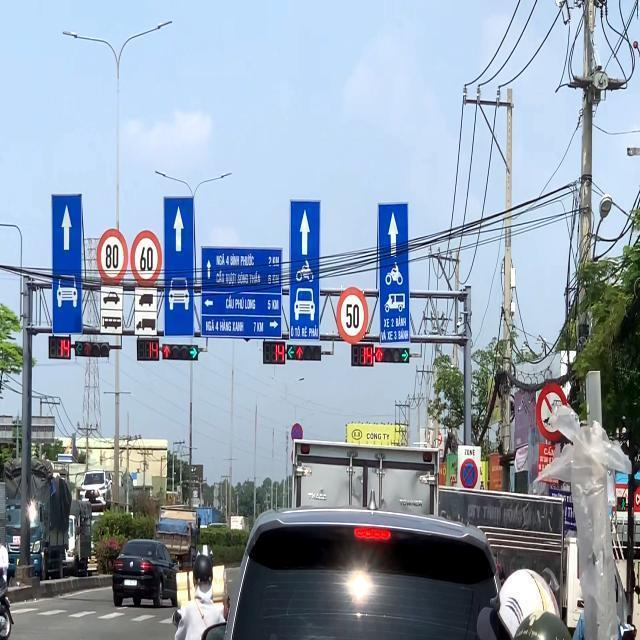127-toc-do-toi-da-50: (334, 288, 372, 340)
127-toc-do-toi-da-60: (129, 228, 163, 284)
127-toc-do-toi-da-80: (96, 230, 129, 282)
130-cam-dung-va-do-xe: (458, 457, 479, 487)
